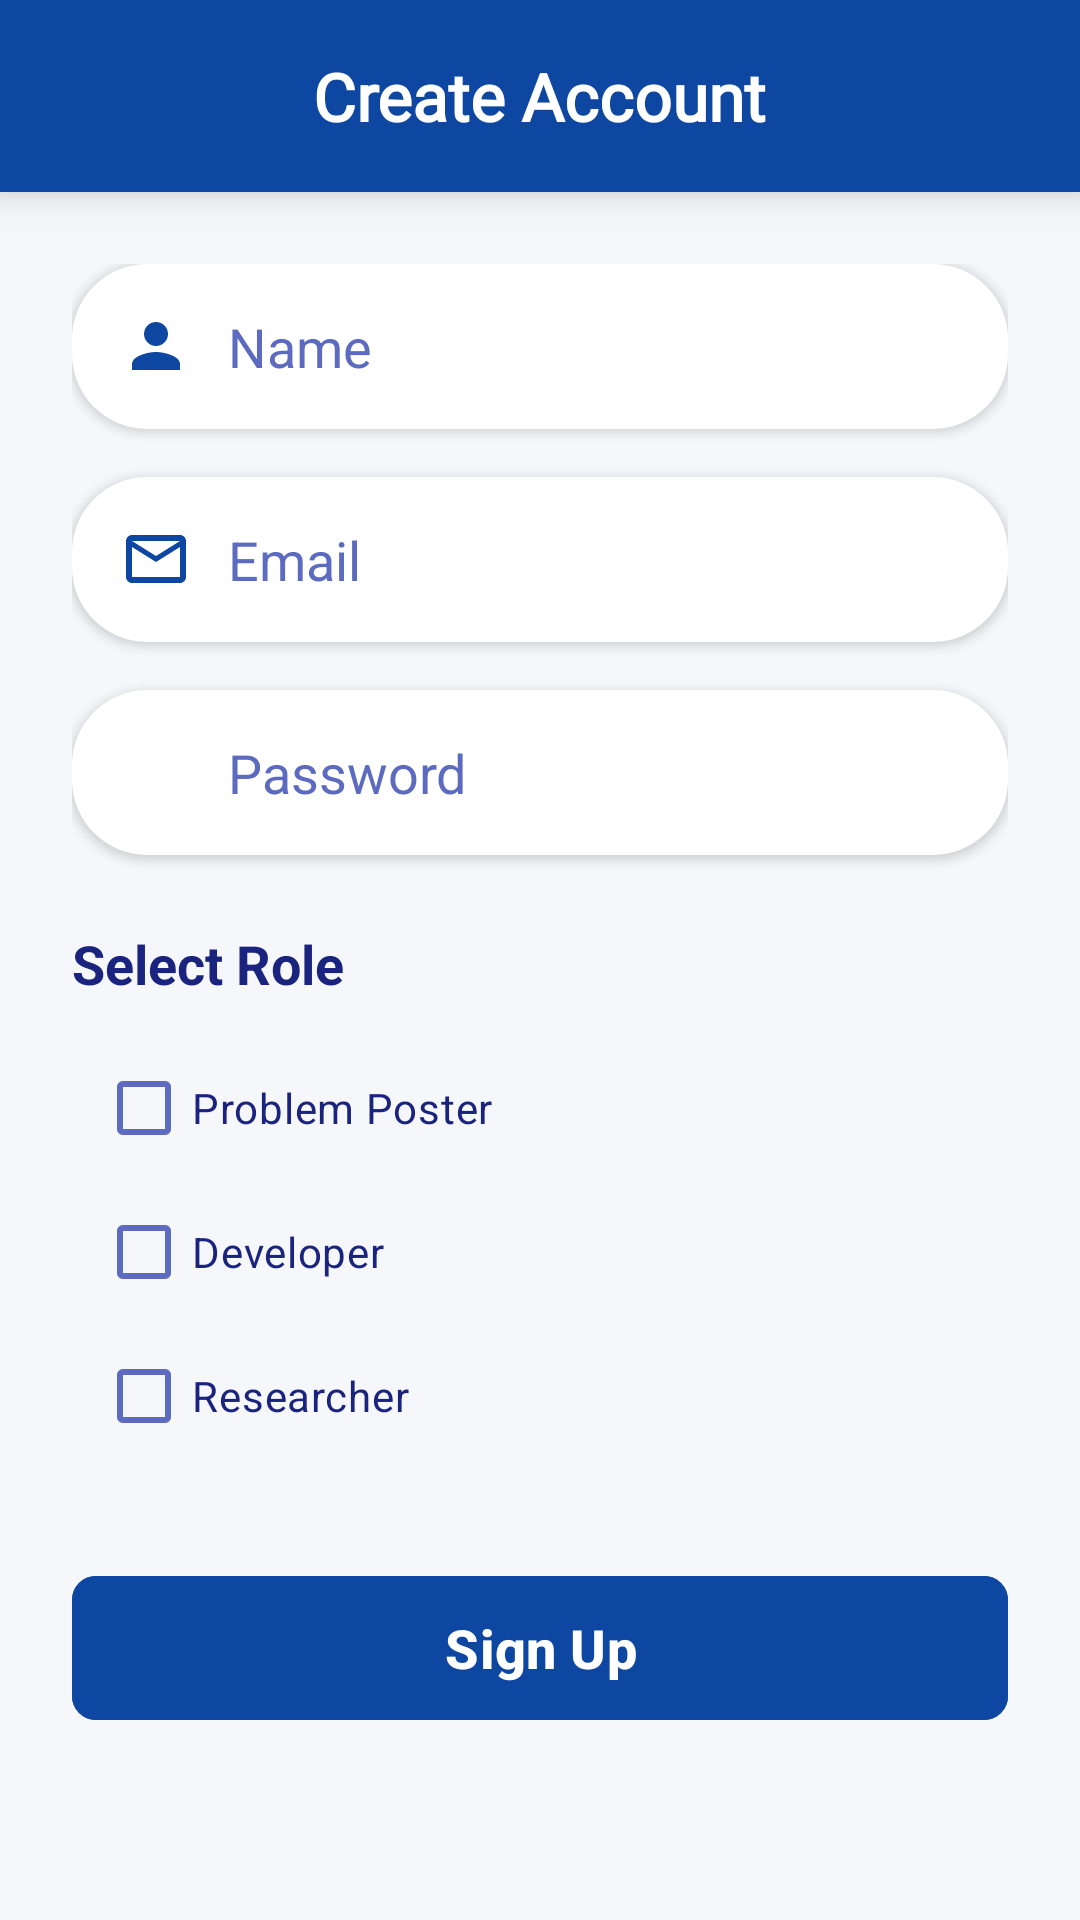

Named icons in this screenshot (1080 x 1920) and their centers, point (x, y):
person: point (156, 346)
